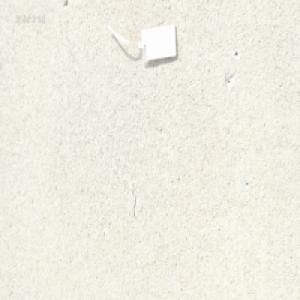LuggageTag: (104, 20, 177, 67)
